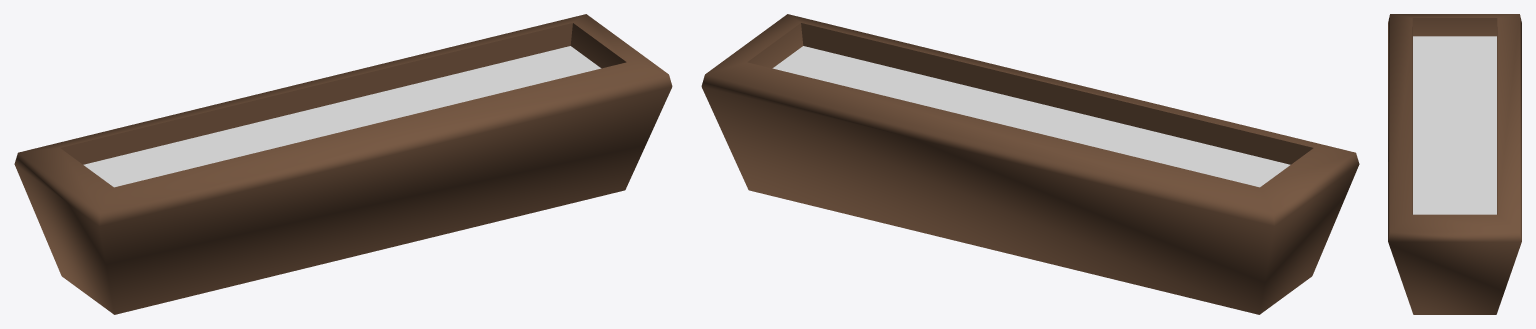
Rendered from Water Trough.fbx.
3 views of the same model, side by side, from view 1: azimuth 30°, elevation 25°; view 2: azimuth 150°, elevation 25°; view 3: azimuth 270°, elevation 25° (orthographic). The views are drawn at different scales.
Parts seen in each view (by area): view 1: Trough, Water_Table; view 2: Trough, Water_Table; view 3: Trough, Water_Table.
Part boxes in pixels (x1,y1,x2,y2): Trough: [14, 14, 672, 314]; Water_Table: [83, 46, 601, 187]; Trough: [701, 14, 1359, 314]; Water_Table: [772, 46, 1290, 187]; Trough: [1388, 14, 1521, 314]; Water_Table: [1413, 36, 1496, 214].
Bounding box in the file's own units: 199 × 42.52 × 51.14.
